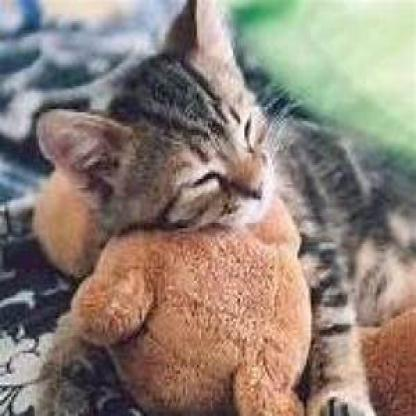cat: (44, 0, 373, 411)
